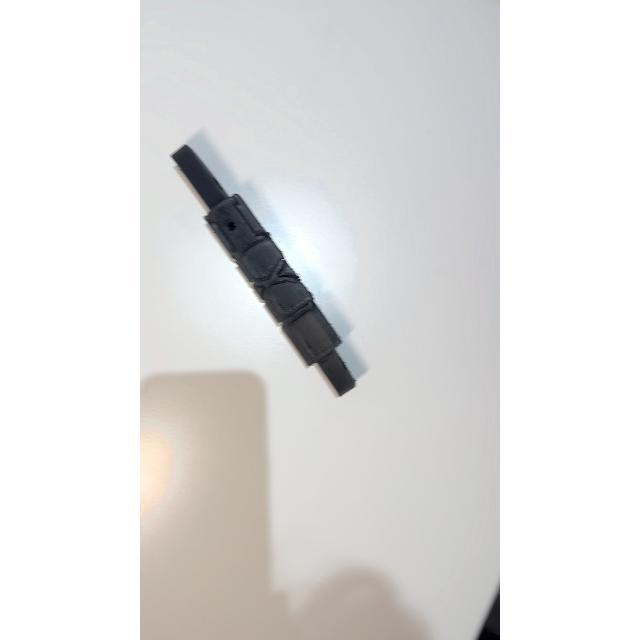Pieza1: (167, 136, 361, 404)
